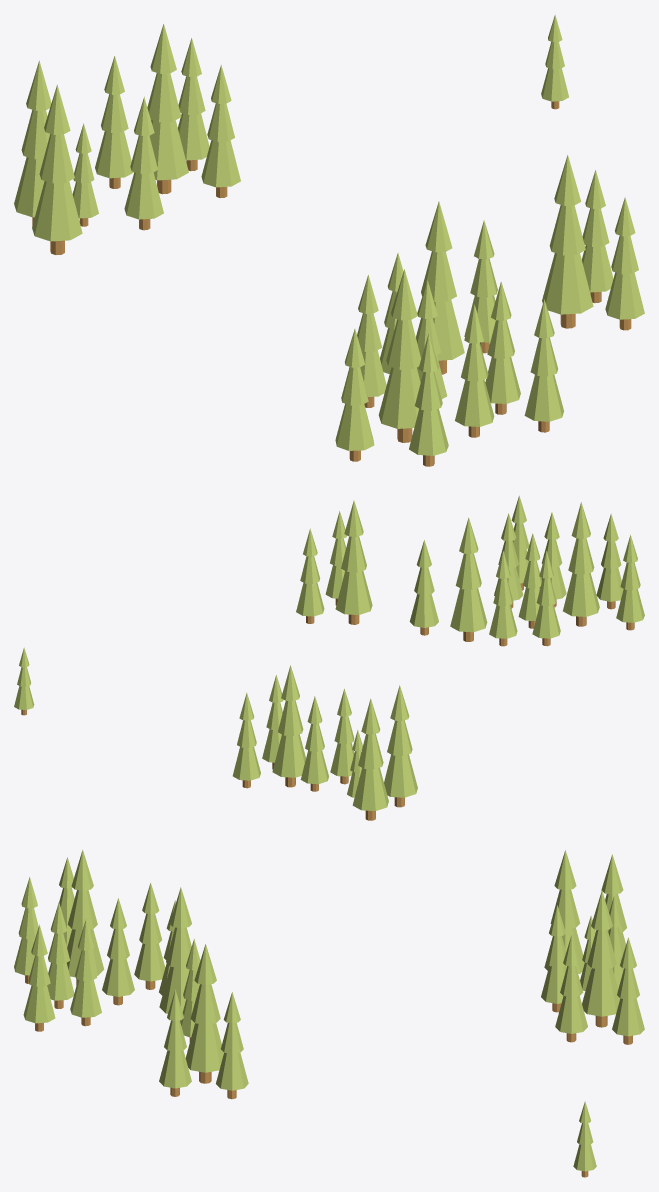
Rendered from forest.gltf.
3 views of the same model, one above another, from view 1: azimuth 30°, elevation 25°; view 2: azimuth 150°, elevation 25°; view 3: azimuth 270°, elevation 25° (orthographic). The views are drawn at different scales.
Visible parts, largest first — view 1: Object_33, Object_37; view 2: Object_33, Object_37; view 3: Object_33, Object_37.
Boxes of the visible parts, box(x1,y1,x2,y2) form: Object_33: box(14, 14, 644, 455); Object_37: box(32, 101, 631, 466); Object_33: box(14, 495, 644, 810); Object_37: box(21, 583, 634, 820); Object_33: box(14, 849, 644, 1171); Object_37: box(25, 975, 632, 1177).
Size of the model in its own units: 146 by 48.35 by 180.
